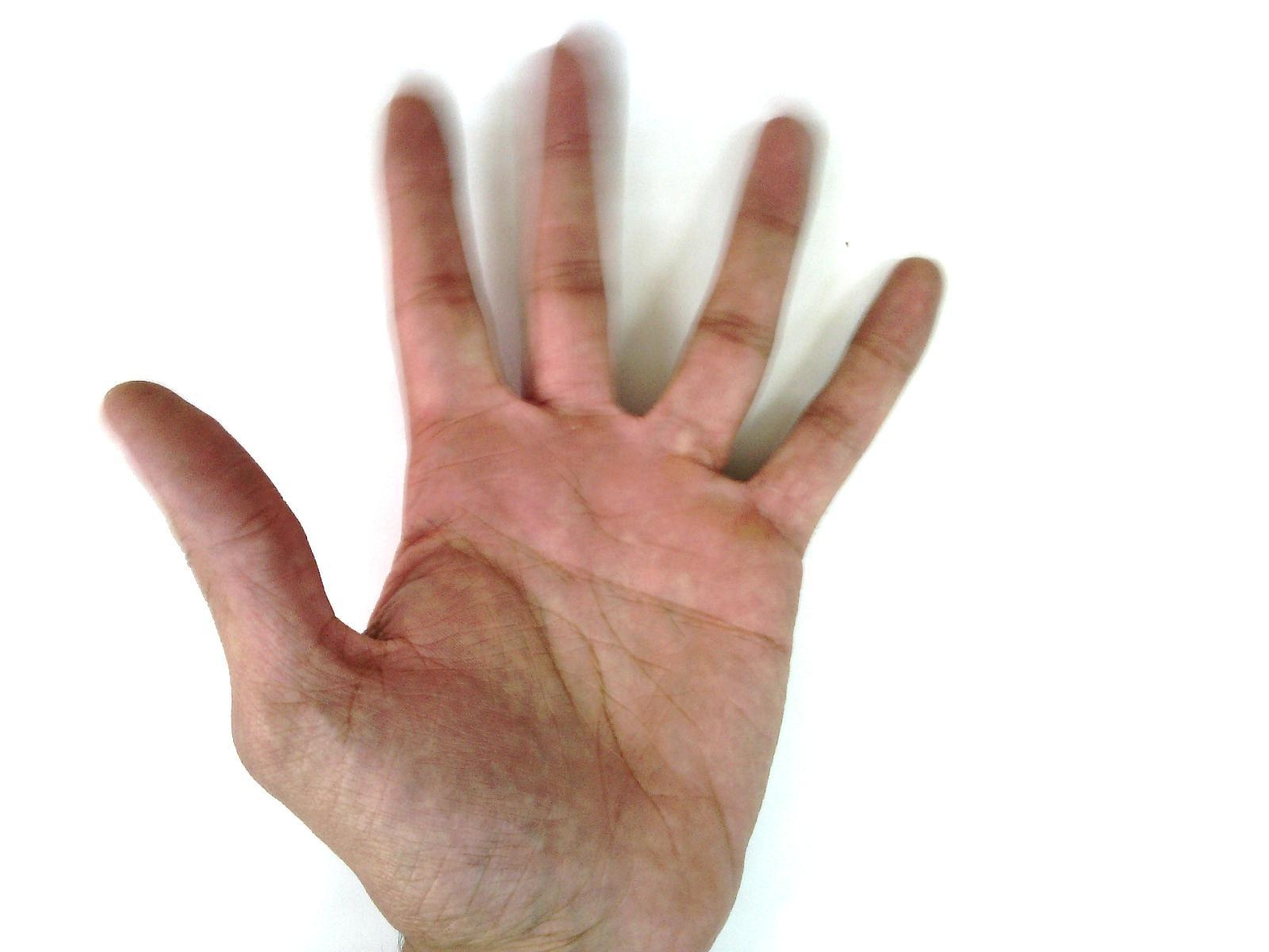open_palm: (98, 28, 949, 951)
